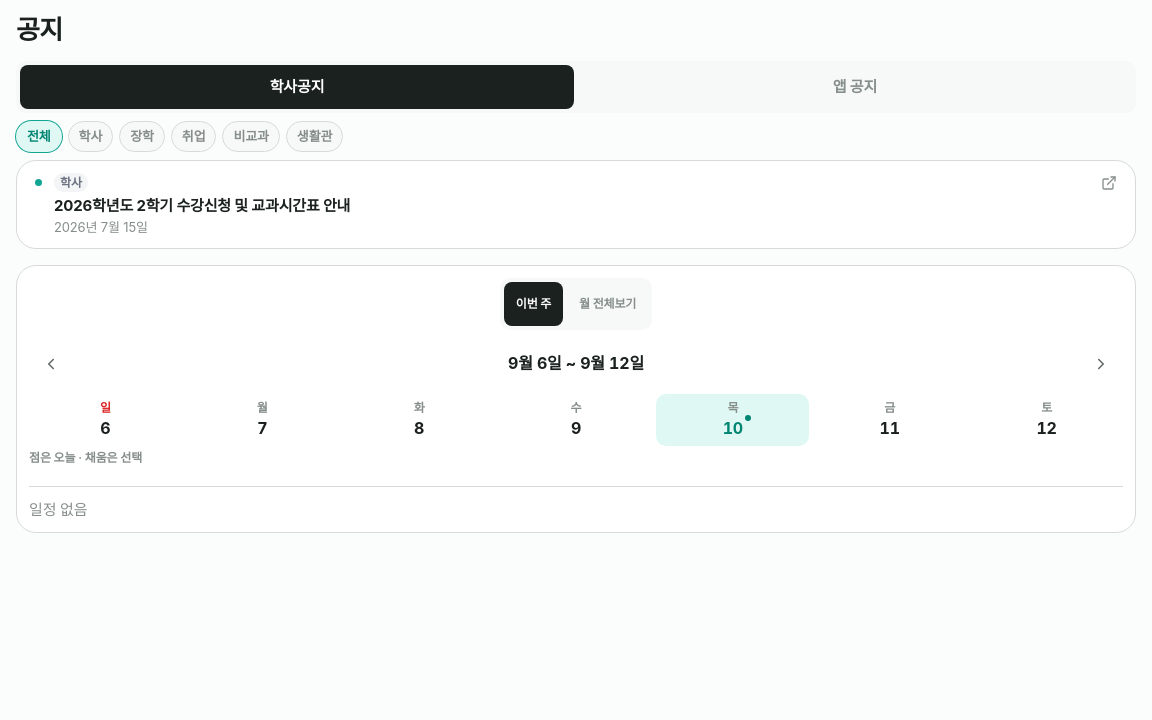
it: NoticeHighlights 시안1 — 히어로 강조 변형 › 히어로 카드에 "전체 공지 보기" CTA가 표시된다
Click the tab "앱 공지": (855, 87) [578,65,1132,109]
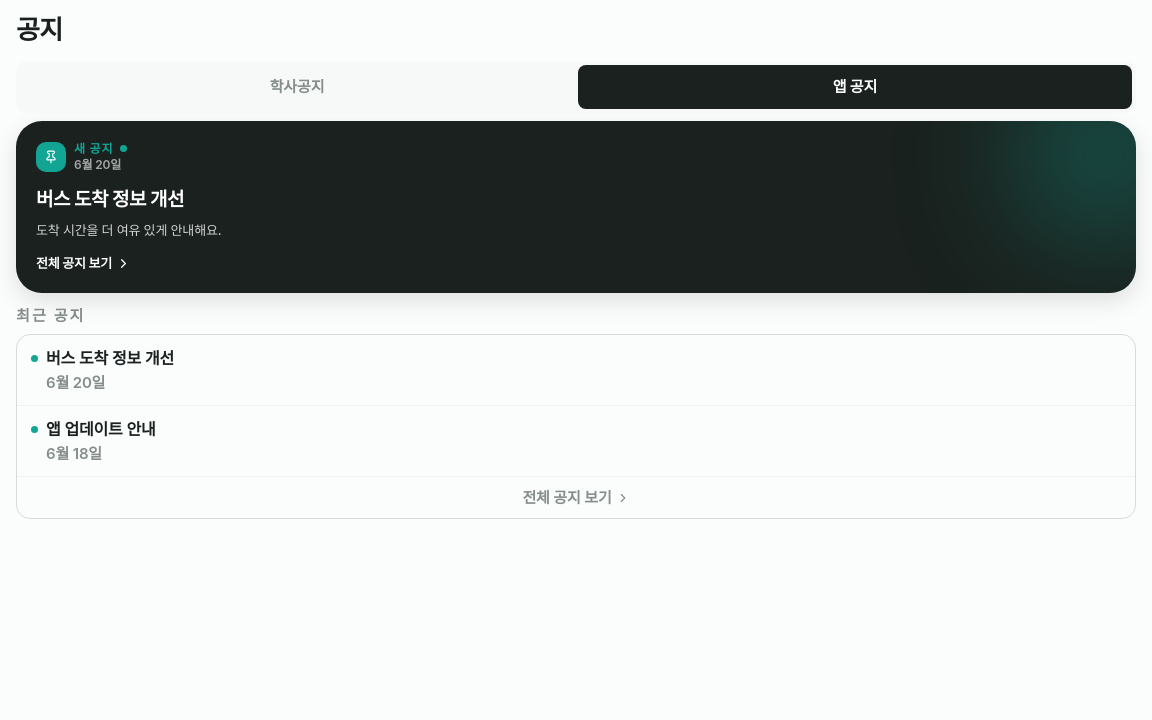
Expected: the text "전체 공지 보기" is shown, [36,255,131,272]
